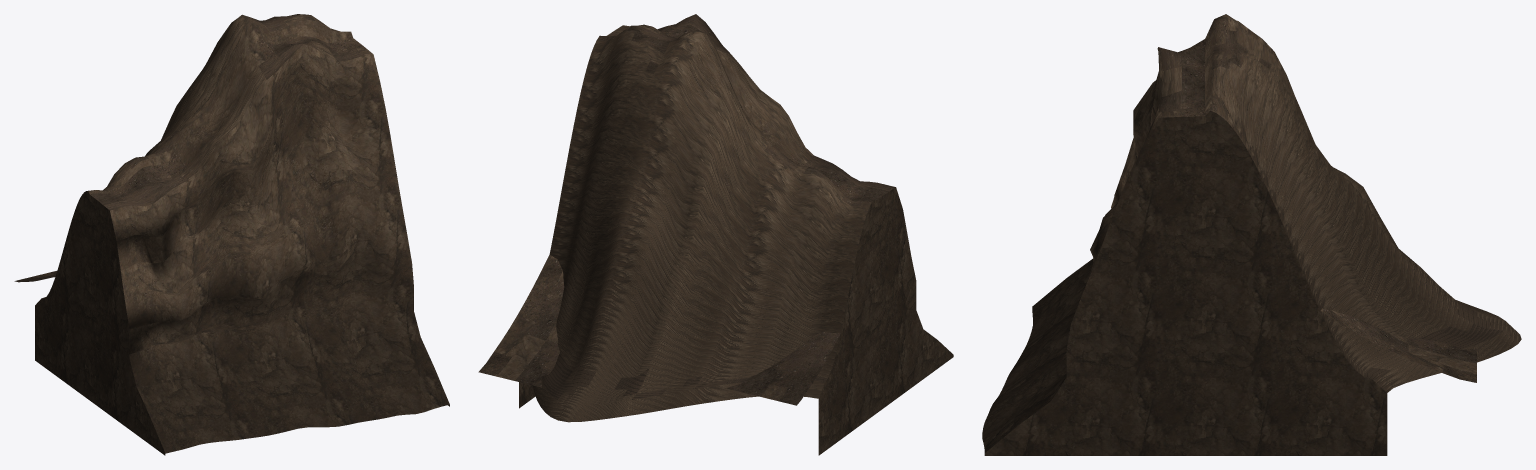
The model's file is seacliff_step_h3h5_v5_dead.glb.
3 renders of one model, left to right at view 1: azimuth 30°, elevation 25°; view 2: azimuth 150°, elevation 25°; view 3: azimuth 270°, elevation 25°, orthographic. The views are drawn at different scales.
Visible parts, largest first — view 1: seacliff_step_h3h5; view 2: seacliff_step_h3h5; view 3: seacliff_step_h3h5.
Part boxes in pixels (x1,y1,x2,y2): seacliff_step_h3h5: [14, 14, 449, 455]; seacliff_step_h3h5: [478, 14, 953, 455]; seacliff_step_h3h5: [982, 14, 1521, 455].
Size of the model in its own units: 6 by 7.32 by 9.33.
2 materials, 2 textured.
